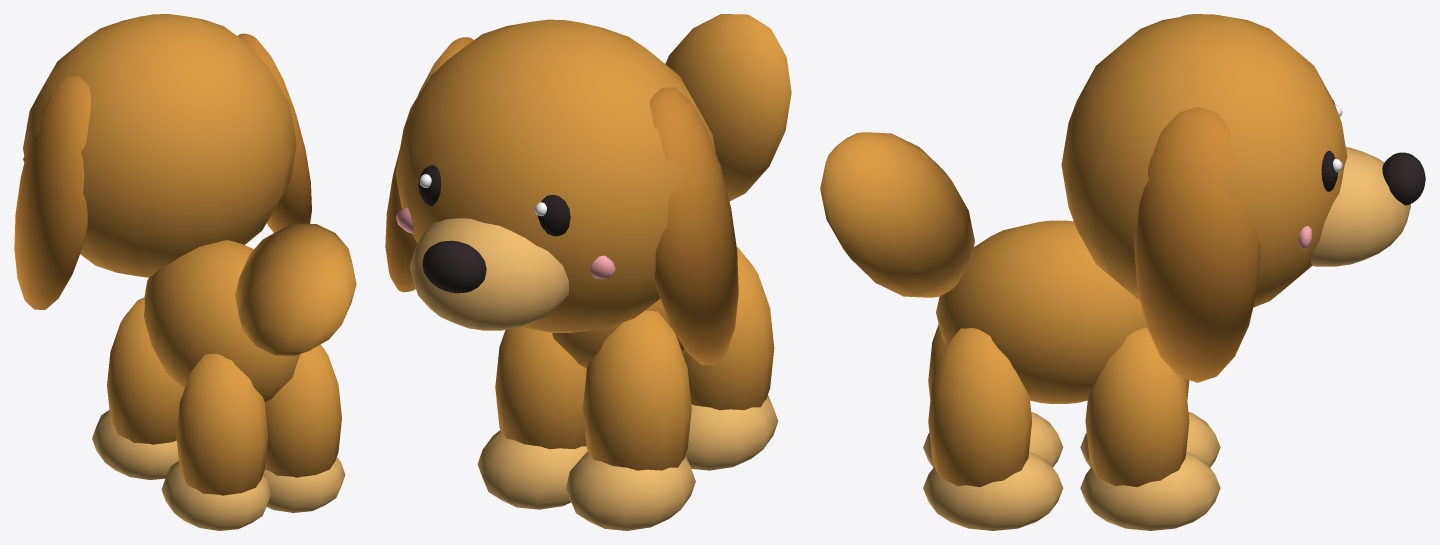
The model's file is dog_golden.glb.
3 renders of one model, left to right at view 1: azimuth 30°, elevation 25°; view 2: azimuth 150°, elevation 25°; view 3: azimuth 270°, elevation 25°, orthographic. The views are drawn at different scales.
Parts seen in each view (by area): view 1: Head, EarL, Body, Tail, LegBL, LegBR, LegFL, LegBLPaw, LegFLPaw, EarR, LegBRPaw; view 2: Head, EarL, Tail, LegFL, Snout, LegFR, LegBL, LegFLPaw, LegFRPaw, LegBLPaw, EarR, Nose (+3 smaller); view 3: Head, EarR, Body, Tail, LegBR, LegFR, Snout, LegBRPaw, LegFRPaw, Nose, LegBLPaw, LegFLPaw.
Boxes of the visible parts, x1=… form: Head: x1=23, y1=14, x2=296, y2=277; EarL: x1=14, y1=76, x2=90, y2=309; Body: x1=144, y1=240, x2=300, y2=402; Tail: x1=235, y1=223, x2=356, y2=355; LegBL: x1=176, y1=353, x2=268, y2=495; LegBR: x1=265, y1=344, x2=341, y2=477; LegFL: x1=107, y1=297, x2=183, y2=444; LegBLPaw: x1=161, y1=461, x2=270, y2=530; LegFLPaw: x1=92, y1=410, x2=178, y2=479; EarR: x1=237, y1=33, x2=311, y2=232; LegBRPaw: x1=263, y1=457, x2=345, y2=512; Head: x1=395, y1=19, x2=715, y2=332; EarL: x1=650, y1=87, x2=738, y2=365; Tail: x1=665, y1=14, x2=791, y2=201; LegFL: x1=583, y1=310, x2=691, y2=470; Snout: x1=410, y1=218, x2=568, y2=330; LegFR: x1=495, y1=327, x2=586, y2=449; LegBL: x1=682, y1=247, x2=774, y2=410; LegFLPaw: x1=566, y1=451, x2=695, y2=530; LegFRPaw: x1=477, y1=430, x2=587, y2=509; LegBLPaw: x1=685, y1=395, x2=778, y2=470; EarR: x1=385, y1=37, x2=473, y2=292; Nose: x1=422, y1=240, x2=486, y2=293; Head: x1=1061, y1=14, x2=1347, y2=307; EarR: x1=1134, y1=106, x2=1260, y2=382; Body: x1=936, y1=220, x2=1146, y2=403; Tail: x1=820, y1=132, x2=974, y2=297; LegBR: x1=928, y1=328, x2=1032, y2=486; LegFR: x1=1085, y1=328, x2=1189, y2=487; Snout: x1=1310, y1=147, x2=1410, y2=266; LegBRPaw: x1=923, y1=451, x2=1063, y2=530; LegFRPaw: x1=1080, y1=452, x2=1220, y2=530; Nose: x1=1382, y1=152, x2=1425, y2=205; LegBLPaw: x1=923, y1=412, x2=1063, y2=467; LegFLPaw: x1=1080, y1=412, x2=1220, y2=467.
Size of the model in its own units: 0.9261 by 1.35 by 1.56.
